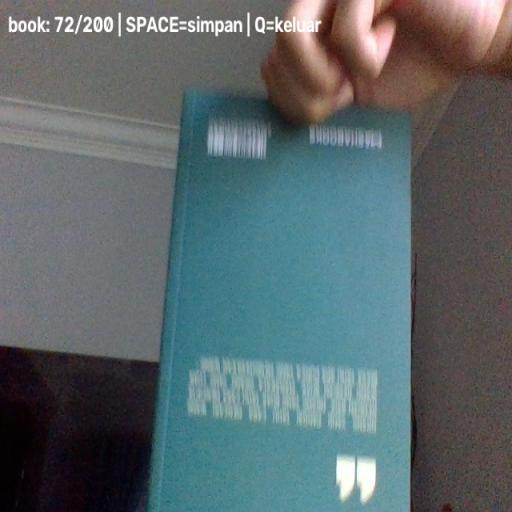Book: (147, 87, 412, 512)
